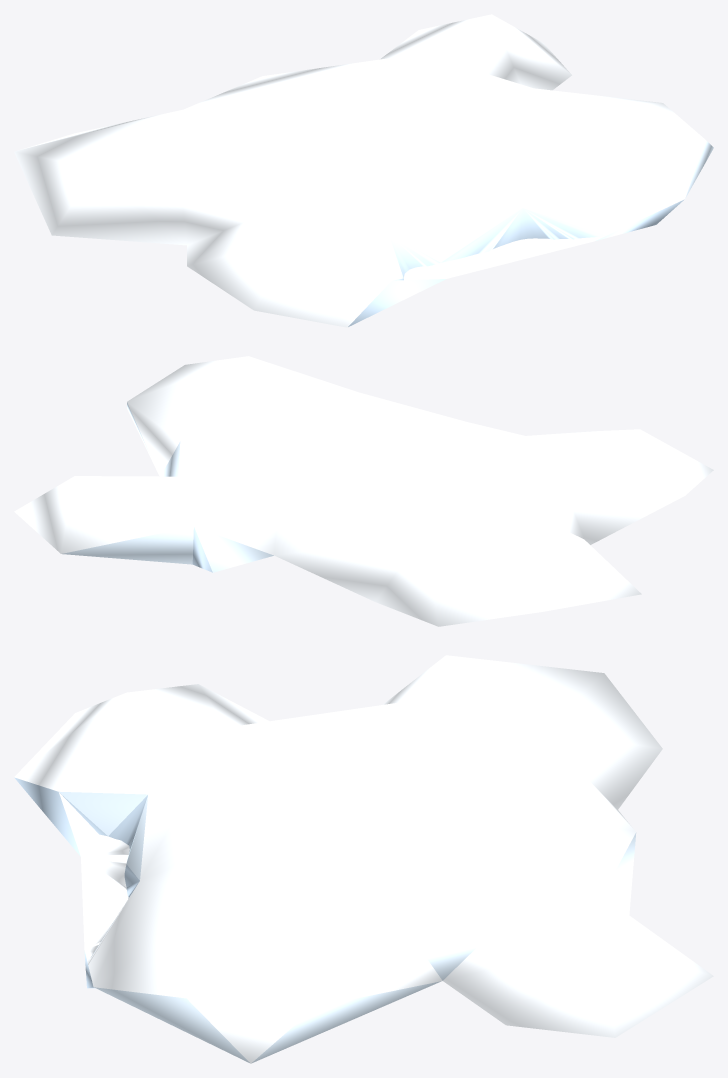
File: snow-patch.glb
3 renders of one model, top to bottom at view 1: azimuth 30°, elevation 25°; view 2: azimuth 150°, elevation 25°; view 3: azimuth 270°, elevation 25°, orthographic. The views are drawn at different scales.
Parts seen in each view (by area): view 1: snow-patch; view 2: snow-patch; view 3: snow-patch.
Part boxes in pixels (x1,y1,x2,y2): snow-patch: [14, 14, 713, 327]; snow-patch: [14, 356, 713, 626]; snow-patch: [14, 655, 713, 1063].
Size of the model in its own units: 10 by 1.5 by 8.
